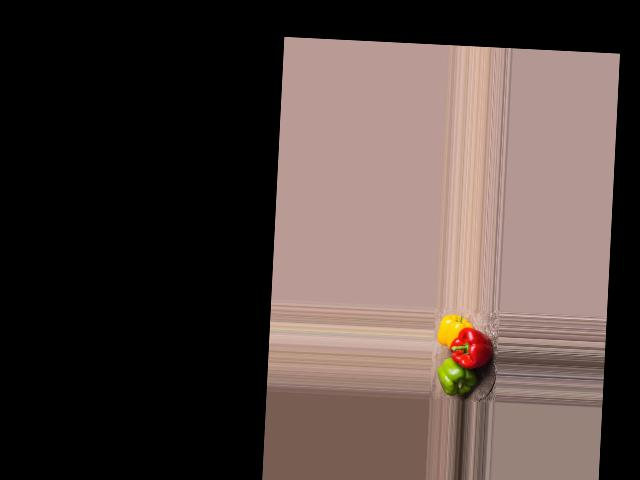bell_pepper: (435, 313, 473, 347)
